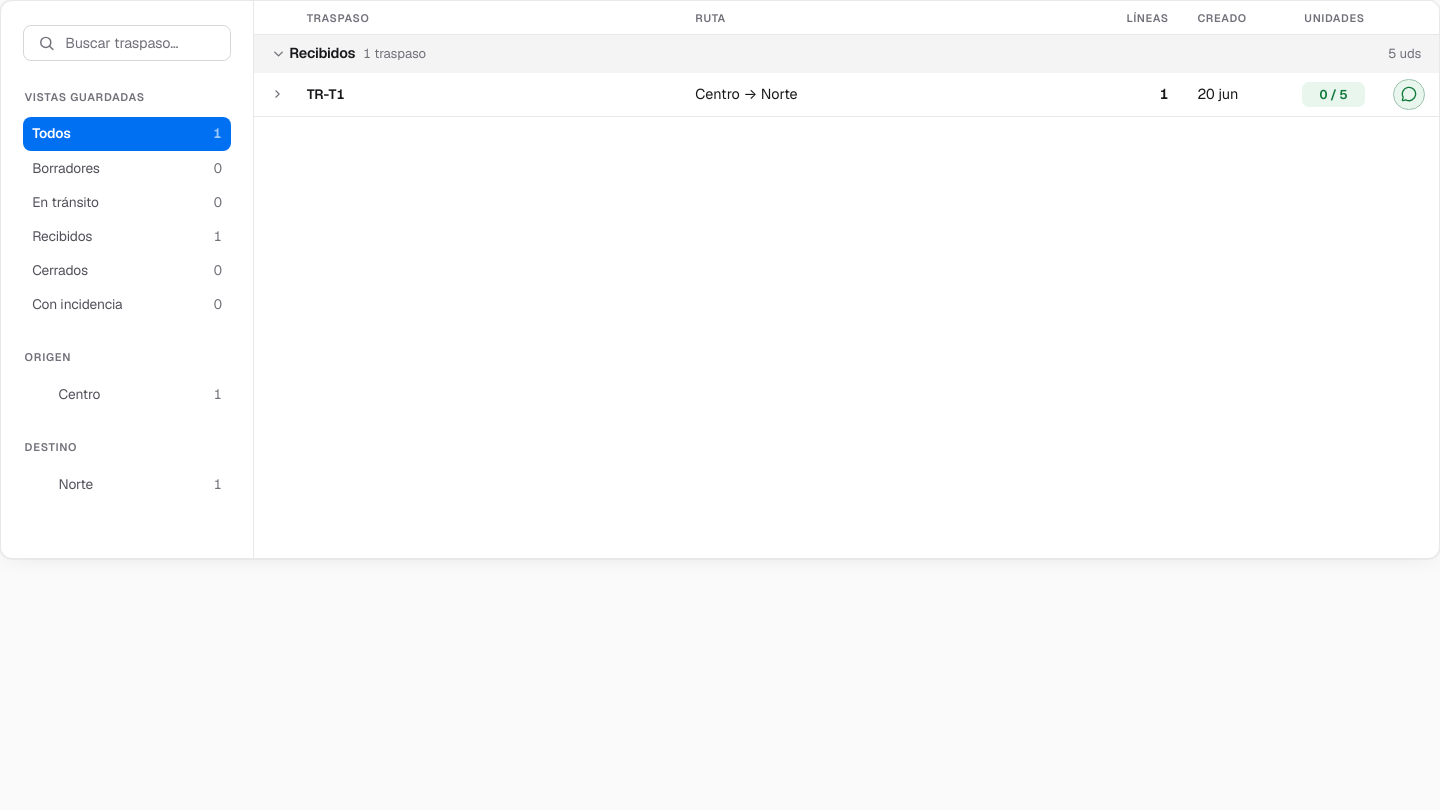
Test: TransfersSection v2 — grupos, detalle en línea y ciclo de vida › abre el chat de comentarios desde el botón de la fila
Expected: the row with test id "transfer-row" is shown, [254,73,1439,117]
Click the button with test id "transfer-chat-open": (1409, 94) [1393,79,1425,110]
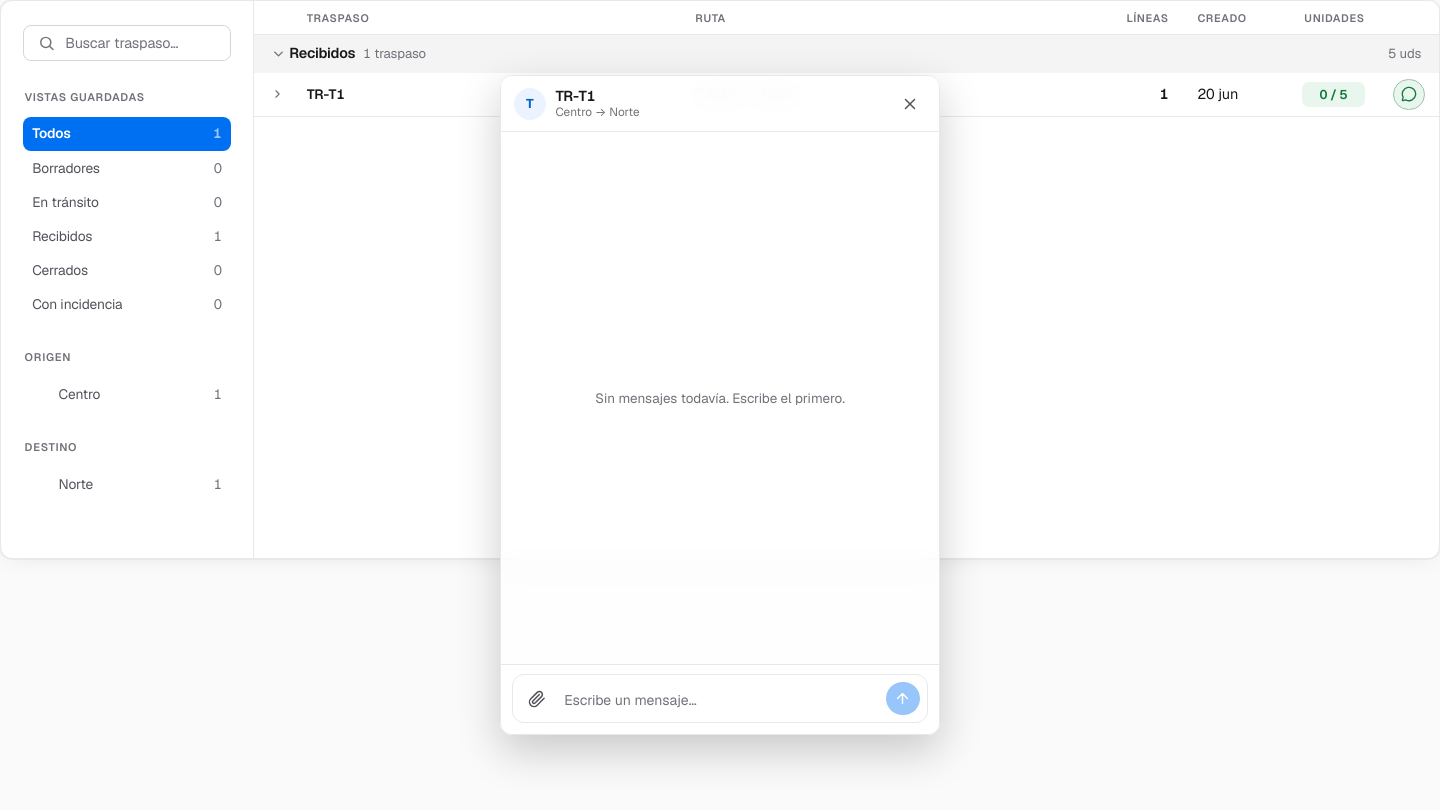
Expected: the element with test id "transfer-chat" is shown, [500,75,940,735]
